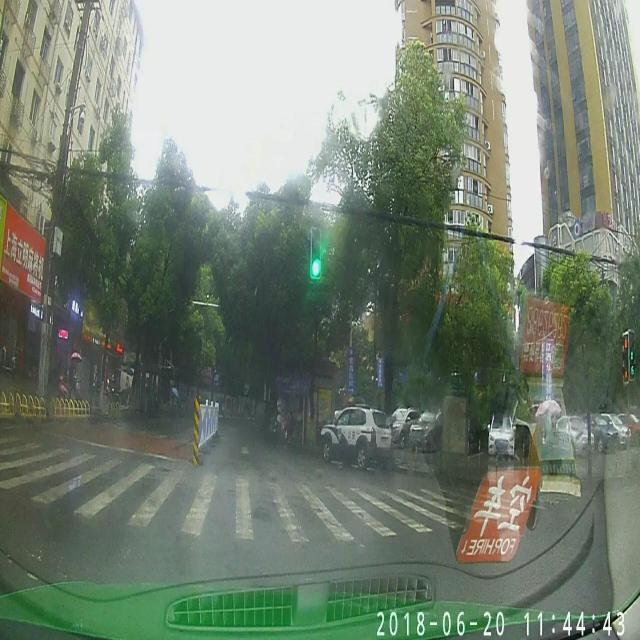car: (319, 393, 392, 466)
